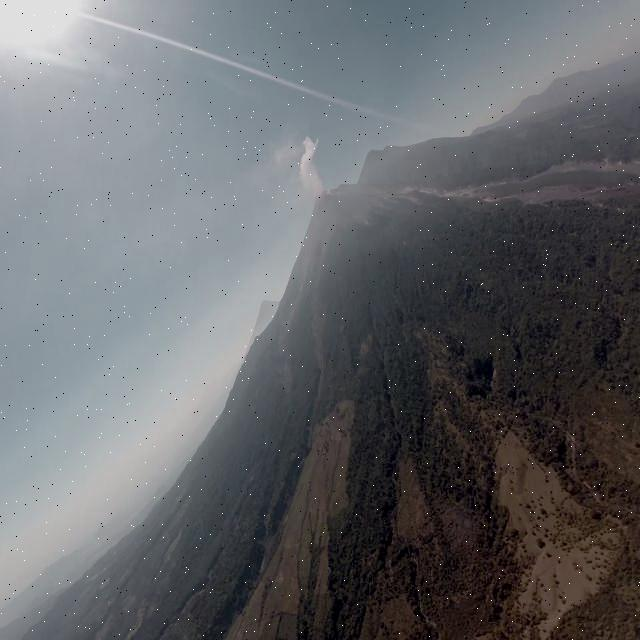Plume: (297, 137, 322, 202)
Summit: (308, 180, 336, 210)
